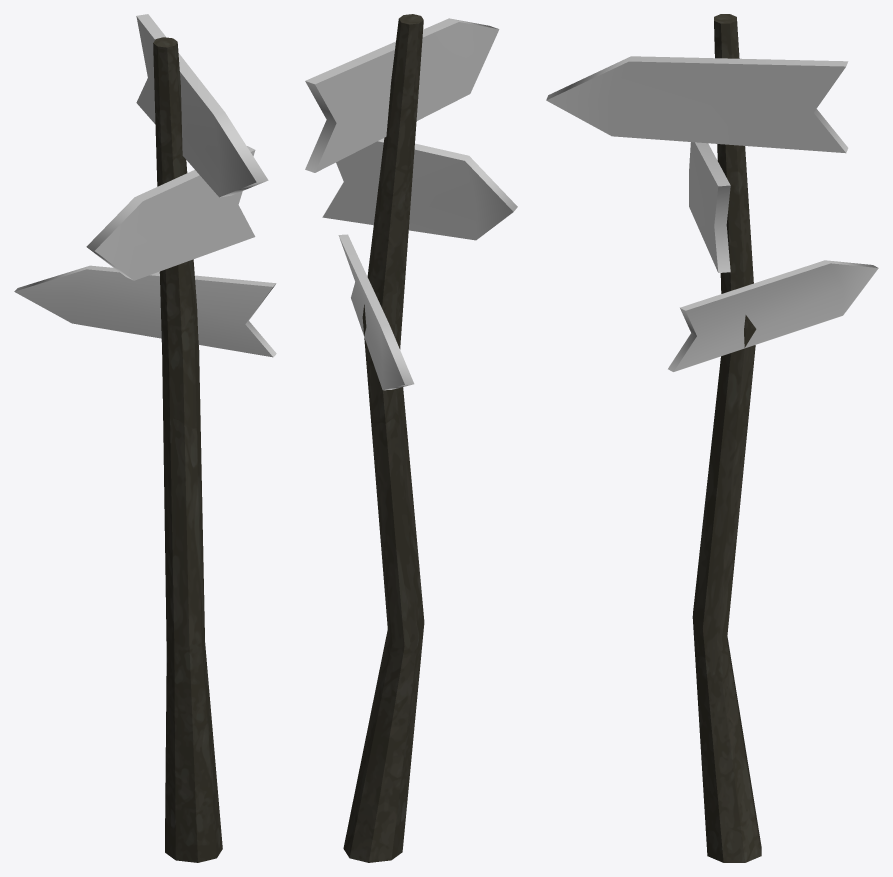
The model's file is Sign_Post.fbx.
3 views of the same model, side by side, from view 1: azimuth 30°, elevation 25°; view 2: azimuth 150°, elevation 25°; view 3: azimuth 270°, elevation 25° (orthographic). The views are drawn at different scales.
Visible parts, largest first — view 1: _Sign_Post; view 2: _Sign_Post; view 3: _Sign_Post.
Part boxes in pixels (x1=…): _Sign_Post: x1=14, y1=14, x2=276, y2=862; _Sign_Post: x1=305, y1=14, x2=517, y2=862; _Sign_Post: x1=546, y1=14, x2=878, y2=862.
Bounding box in the file's own units: 55.41 × 240 × 88.45.
